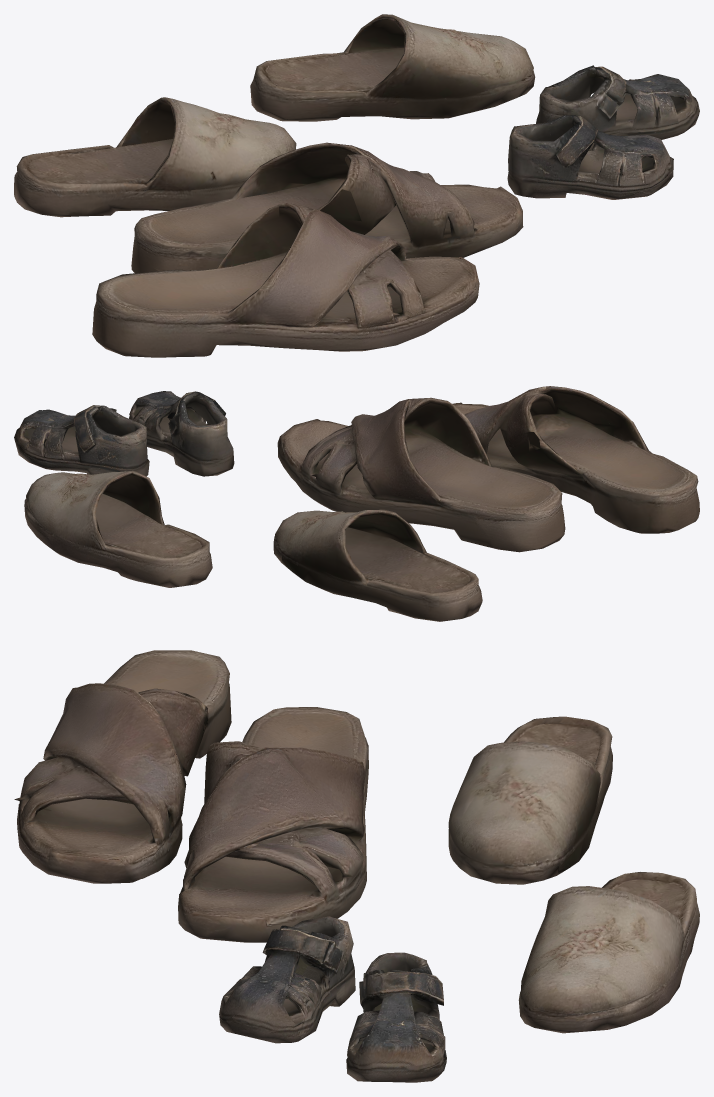
File: BetterSandals.fbx
3 views of the same model, one above another, from view 1: azimuth 30°, elevation 25°; view 2: azimuth 150°, elevation 25°; view 3: azimuth 270°, elevation 25° (orthographic). The views are drawn at different scales.
Parts seen in each view (by area): view 1: tripo_node_6ad5e6bf-c7e8-4ed7-a871-913e7238c759, tripo_node_6ad5e6bf-c7e8-4ed7-a871-913e7238c759.005, tripo_node_6ad5e6bf-c7e8-4ed7-a871-913e7238c759.003, tripo_node_6ad5e6bf-c7e8-4ed7-a871-913e7238c759.004, tripo_node_6ad5e6bf-c7e8-4ed7-a871-913e7238c759.002, tripo_node_6ad5e6bf-c7e8-4ed7-a871-913e7238c759.001; view 2: tripo_node_6ad5e6bf-c7e8-4ed7-a871-913e7238c759.005, tripo_node_6ad5e6bf-c7e8-4ed7-a871-913e7238c759, tripo_node_6ad5e6bf-c7e8-4ed7-a871-913e7238c759.004, tripo_node_6ad5e6bf-c7e8-4ed7-a871-913e7238c759.003, tripo_node_6ad5e6bf-c7e8-4ed7-a871-913e7238c759.001, tripo_node_6ad5e6bf-c7e8-4ed7-a871-913e7238c759.002; view 3: tripo_node_6ad5e6bf-c7e8-4ed7-a871-913e7238c759.005, tripo_node_6ad5e6bf-c7e8-4ed7-a871-913e7238c759, tripo_node_6ad5e6bf-c7e8-4ed7-a871-913e7238c759.003, tripo_node_6ad5e6bf-c7e8-4ed7-a871-913e7238c759.004, tripo_node_6ad5e6bf-c7e8-4ed7-a871-913e7238c759.002, tripo_node_6ad5e6bf-c7e8-4ed7-a871-913e7238c759.001.
Boxes of the visible parts, x1=… form: tripo_node_6ad5e6bf-c7e8-4ed7-a871-913e7238c759: x1=92, y1=203, x2=479, y2=357; tripo_node_6ad5e6bf-c7e8-4ed7-a871-913e7238c759.005: x1=131, y1=142, x2=523, y2=273; tripo_node_6ad5e6bf-c7e8-4ed7-a871-913e7238c759.003: x1=250, y1=14, x2=535, y2=121; tripo_node_6ad5e6bf-c7e8-4ed7-a871-913e7238c759.004: x1=14, y1=97, x2=296, y2=217; tripo_node_6ad5e6bf-c7e8-4ed7-a871-913e7238c759.002: x1=507, y1=115, x2=673, y2=199; tripo_node_6ad5e6bf-c7e8-4ed7-a871-913e7238c759.001: x1=536, y1=65, x2=699, y2=150; tripo_node_6ad5e6bf-c7e8-4ed7-a871-913e7238c759.005: x1=277, y1=397, x2=565, y2=552; tripo_node_6ad5e6bf-c7e8-4ed7-a871-913e7238c759: x1=452, y1=386, x2=699, y2=533; tripo_node_6ad5e6bf-c7e8-4ed7-a871-913e7238c759.004: x1=273, y1=509, x2=482, y2=621; tripo_node_6ad5e6bf-c7e8-4ed7-a871-913e7238c759.003: x1=24, y1=470, x2=212, y2=587; tripo_node_6ad5e6bf-c7e8-4ed7-a871-913e7238c759.001: x1=14, y1=405, x2=149, y2=476; tripo_node_6ad5e6bf-c7e8-4ed7-a871-913e7238c759.002: x1=129, y1=391, x2=234, y2=476; tripo_node_6ad5e6bf-c7e8-4ed7-a871-913e7238c759.005: x1=178, y1=707, x2=368, y2=942; tripo_node_6ad5e6bf-c7e8-4ed7-a871-913e7238c759: x1=14, y1=650, x2=231, y2=883; tripo_node_6ad5e6bf-c7e8-4ed7-a871-913e7238c759.003: x1=518, y1=872, x2=699, y2=1033; tripo_node_6ad5e6bf-c7e8-4ed7-a871-913e7238c759.004: x1=448, y1=716, x2=612, y2=884; tripo_node_6ad5e6bf-c7e8-4ed7-a871-913e7238c759.002: x1=219, y1=916, x2=355, y2=1043; tripo_node_6ad5e6bf-c7e8-4ed7-a871-913e7238c759.001: x1=346, y1=952, x2=446, y2=1082.
Size of the model in its own units: 135 by 20.5 by 100.
Materials: 1 (1 with a texture image).
